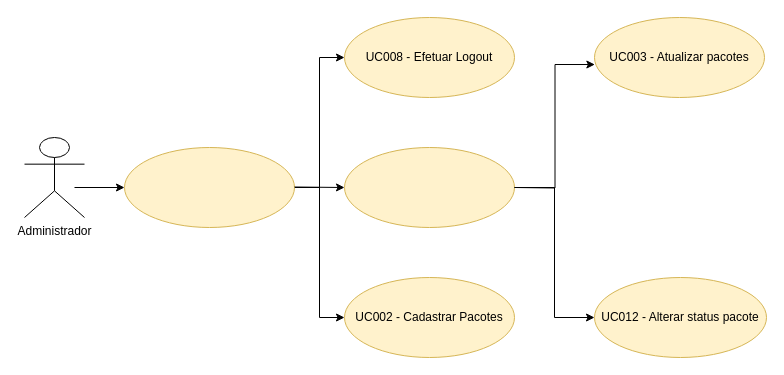
Some shapes in this 784 by 375 pixel diagram are drawn without their labels. Here are the shapes that lost their labels. From the top down, the centre of each, then its label:
At point 209,187: "UC0007- Efetuar Login".
At point 429,187: "UC001 - Visualizar pacotes".
